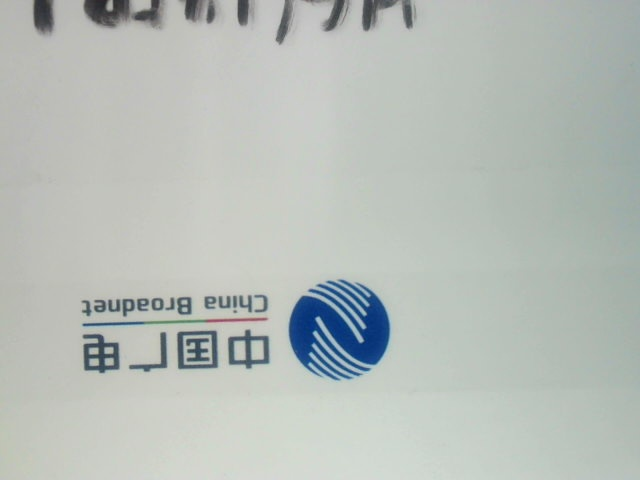AW_ChinaBroadNet: (67, 256, 398, 381)
